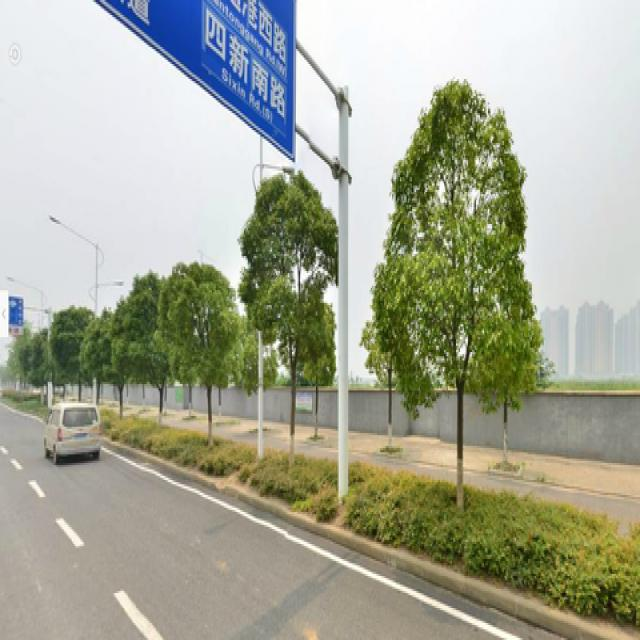cinn: (408, 102, 533, 491), (252, 181, 320, 461), (166, 252, 230, 467)
